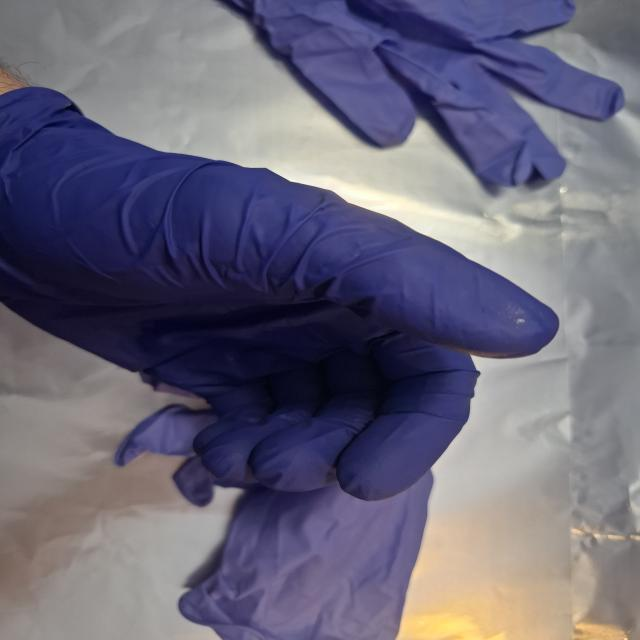glove_on: (0, 81, 565, 503)
